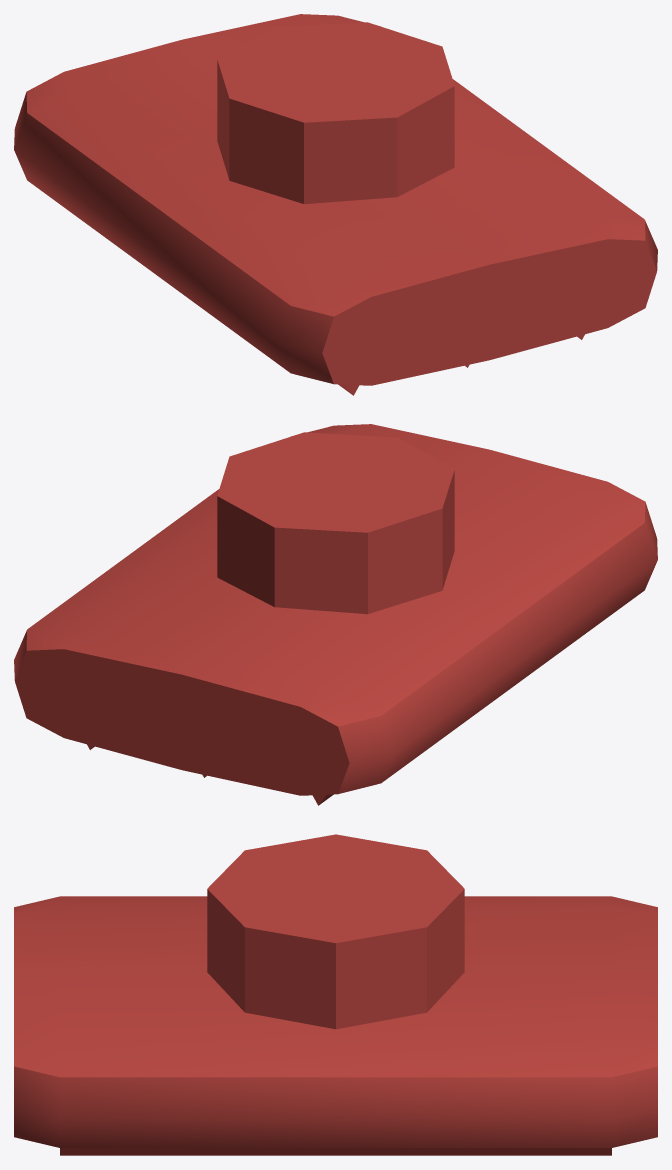
File: foot.glb
3 views of the same model, one above another, from view 1: azimuth 30°, elevation 25°; view 2: azimuth 150°, elevation 25°; view 3: azimuth 270°, elevation 25° (orthographic). The views are drawn at different scales.
Parts seen in each view (by area): view 1: lod0; view 2: lod0; view 3: lod0.
Part boxes in pixels (x1,y1,x2,y2): lod0: (14,14,657,395); lod0: (14,424,657,805); lod0: (14,834,657,1155).
Size of what is drawn, in the model's own units: 0.05 by 0.025 by 0.07.
